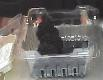berry: (39, 33, 62, 53), (36, 24, 58, 36), (38, 41, 57, 54)
